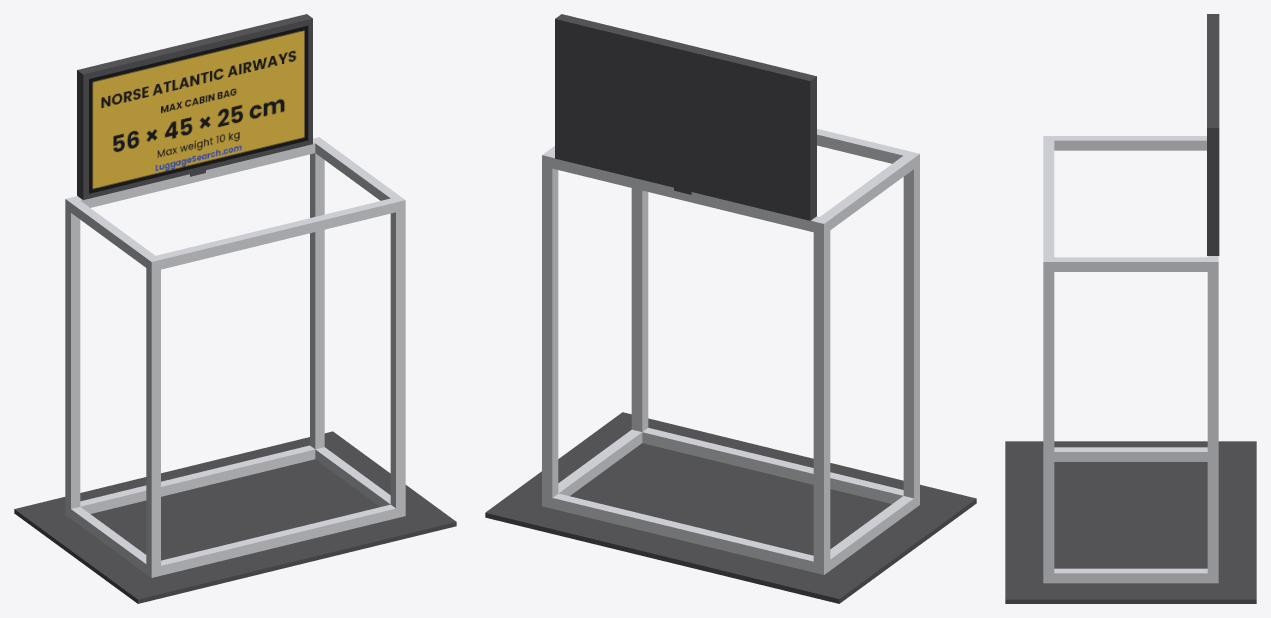
Rendered from norse-atlantic.glb.
3 renders of one model, left to right at view 1: azimuth 30°, elevation 25°; view 2: azimuth 150°, elevation 25°; view 3: azimuth 270°, elevation 25°, orthographic. The views are drawn at different scales.
Visible parts, largest first — view 1: frame, base, sign, sign_back; view 2: frame, sign_back, base; view 3: base, frame, sign_back.
Boxes of the visible parts, x1,y1,x2,y2 form: frame: [65, 137, 405, 577]; base: [14, 431, 456, 603]; sign: [89, 25, 308, 193]; sign_back: [77, 14, 312, 199]; frame: [542, 128, 919, 574]; sign_back: [555, 14, 816, 220]; base: [485, 412, 976, 603]; base: [1005, 441, 1256, 603]; frame: [1043, 136, 1218, 583]; sign_back: [1207, 14, 1219, 255].
Size of the model in its own units: 0.61 by 0.816 by 0.41.
Materials: 3 (1 with a texture image).
